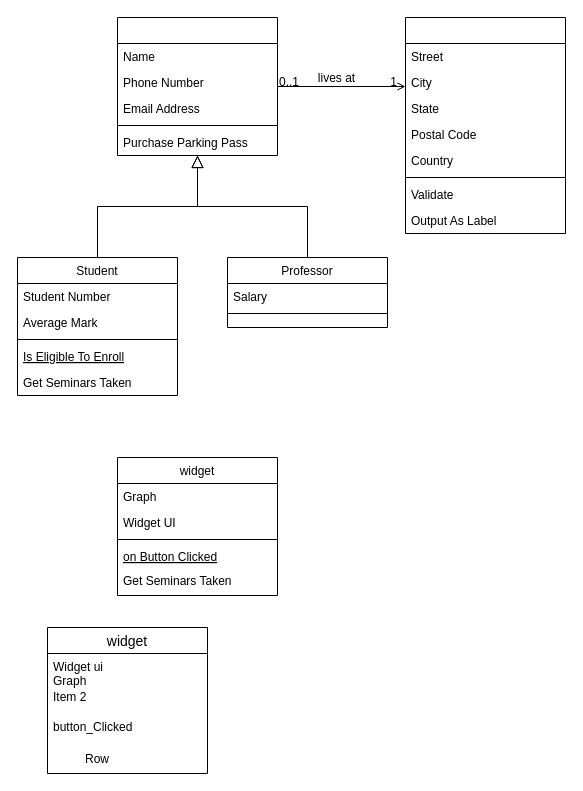
The diagram is 583 pixels wide and 791 high, and some of its shapes have lost their labels. Each missing label, with the box of its shape:
Address: (404, 16, 566, 234)
Person: (116, 16, 278, 156)
